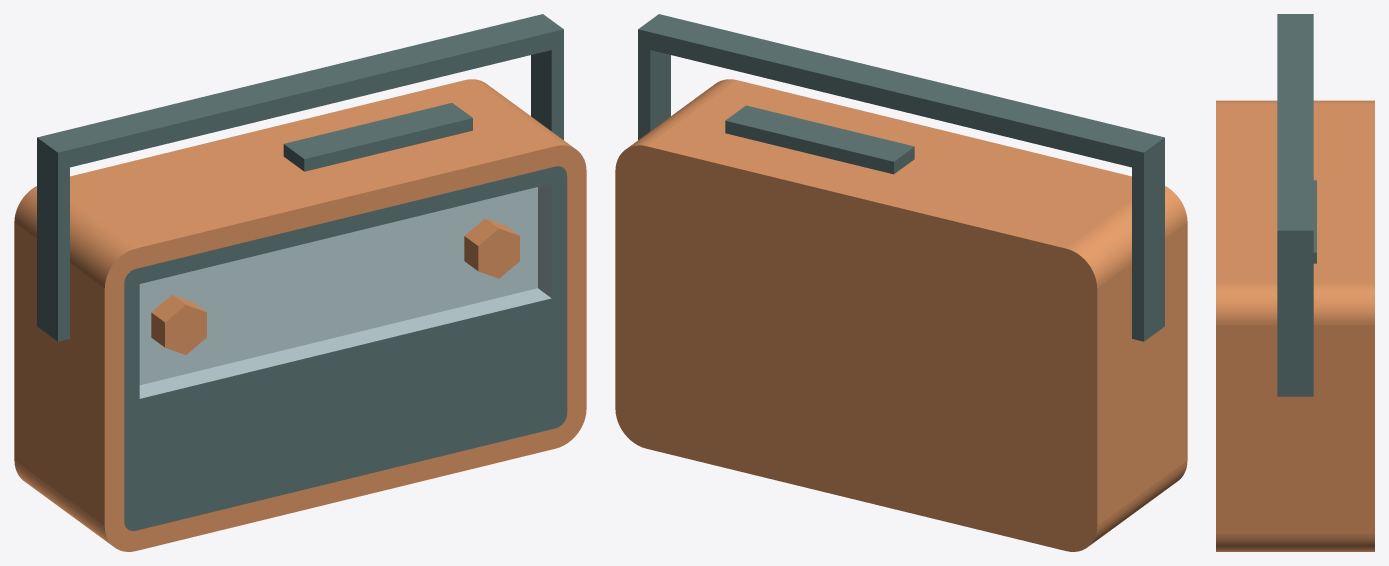
Rendered from radio.glb.
3 views of the same model, side by side, from view 1: azimuth 30°, elevation 25°; view 2: azimuth 150°, elevation 25°; view 3: azimuth 270°, elevation 25° (orthographic). The views are drawn at different scales.
Parts seen in each view (by area): view 1: radio; view 2: radio; view 3: radio.
Part boxes in pixels (x1,y1,x2,y2): radio: [14, 14, 586, 551]; radio: [615, 14, 1187, 551]; radio: [1216, 14, 1374, 551].
Size of the model in its own units: 0.63 by 0.4564 by 0.195.
